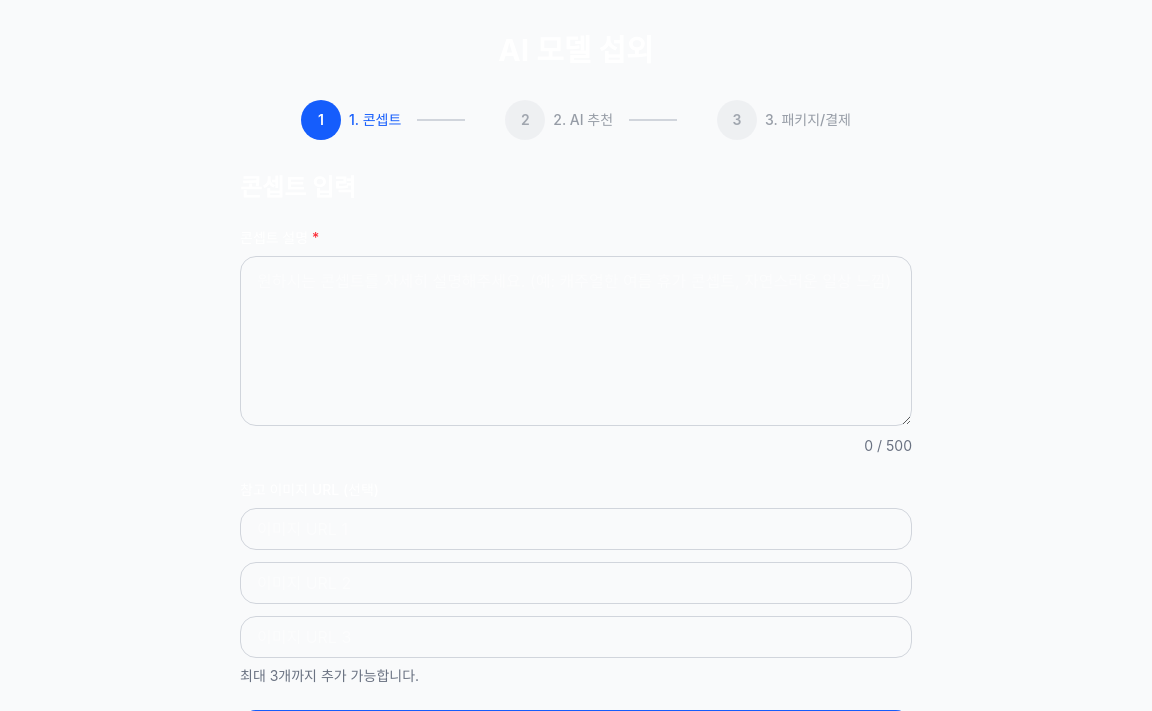
Test: BookingWizard › Test 4: 모델 선택 후 Step 3 이동 › requires model selection before proceeding
Type "캐주얼한 콘셉트" into the text box with placeholder "원하시는 콘셉트를 자세히 설명해주세요. (예: 캐주얼한 여름 휴가 콘셉트, 자연스러운 일상 느낌)" at {"x": 576, "y": 341}, box x1=240 y1=256 x2=912 y2=426
(page scrolled)
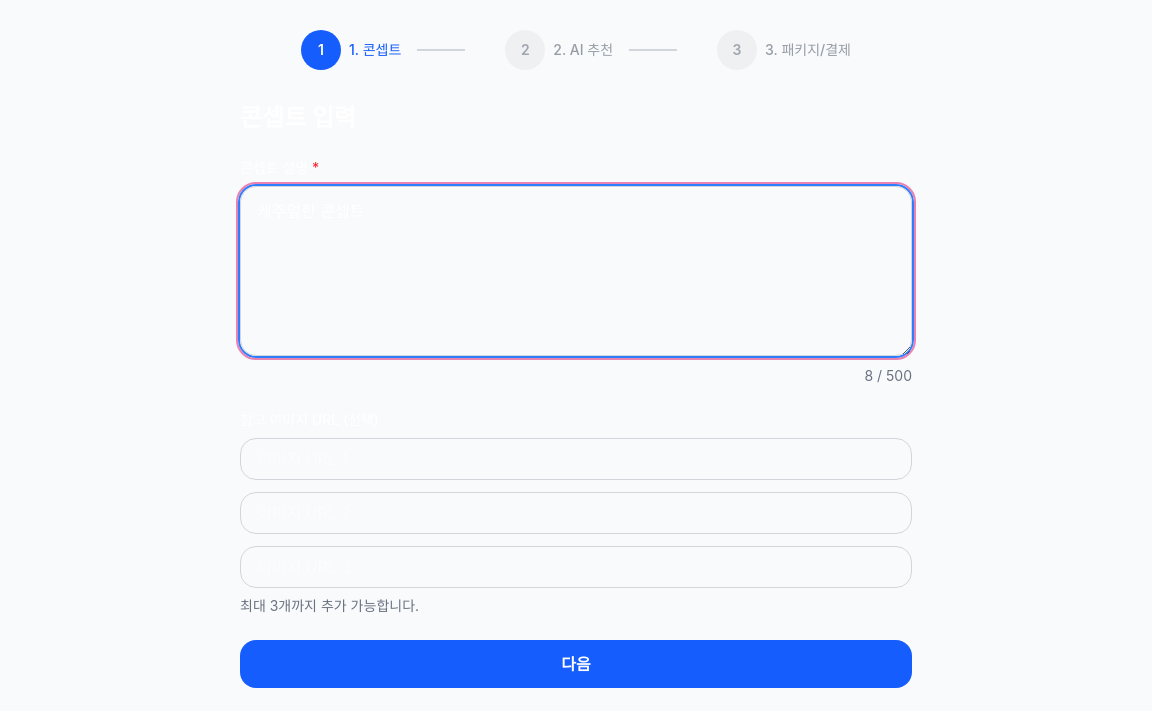
Click the button "다음" at {"x": 576, "y": 664}, box x1=240 y1=640 x2=912 y2=688
(page scrolled)
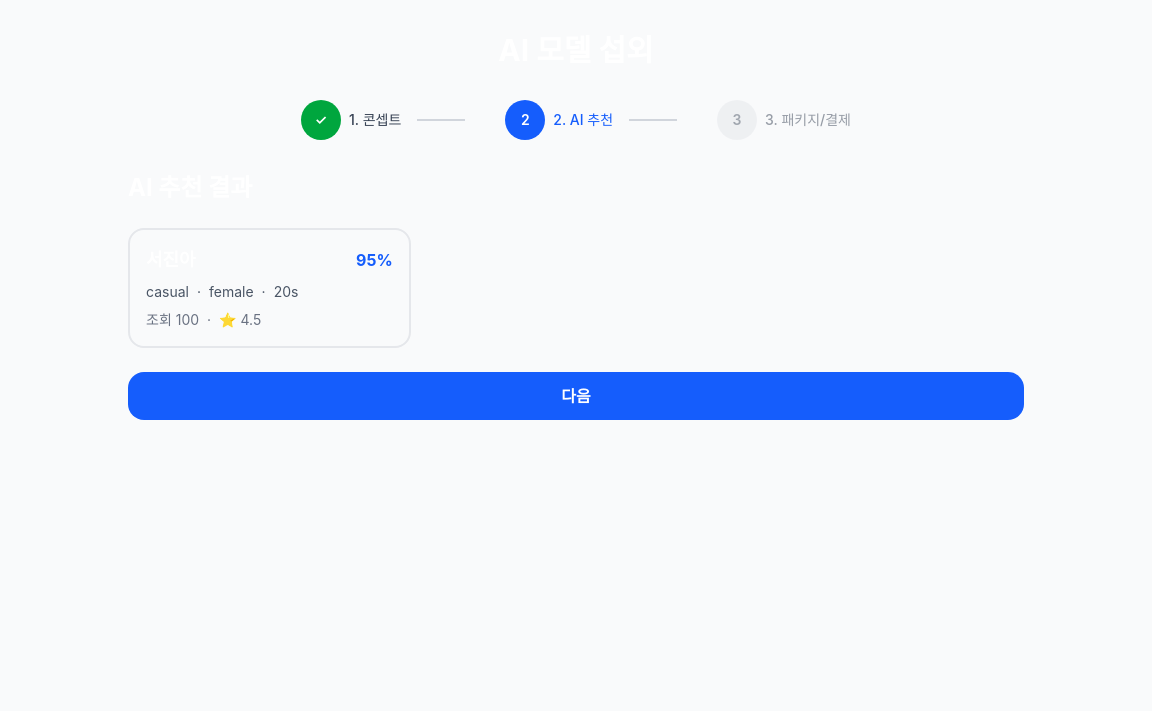
Try to proceed without selection
Click the button "다음" at {"x": 576, "y": 396}, box x1=128 y1=372 x2=1024 y2=420
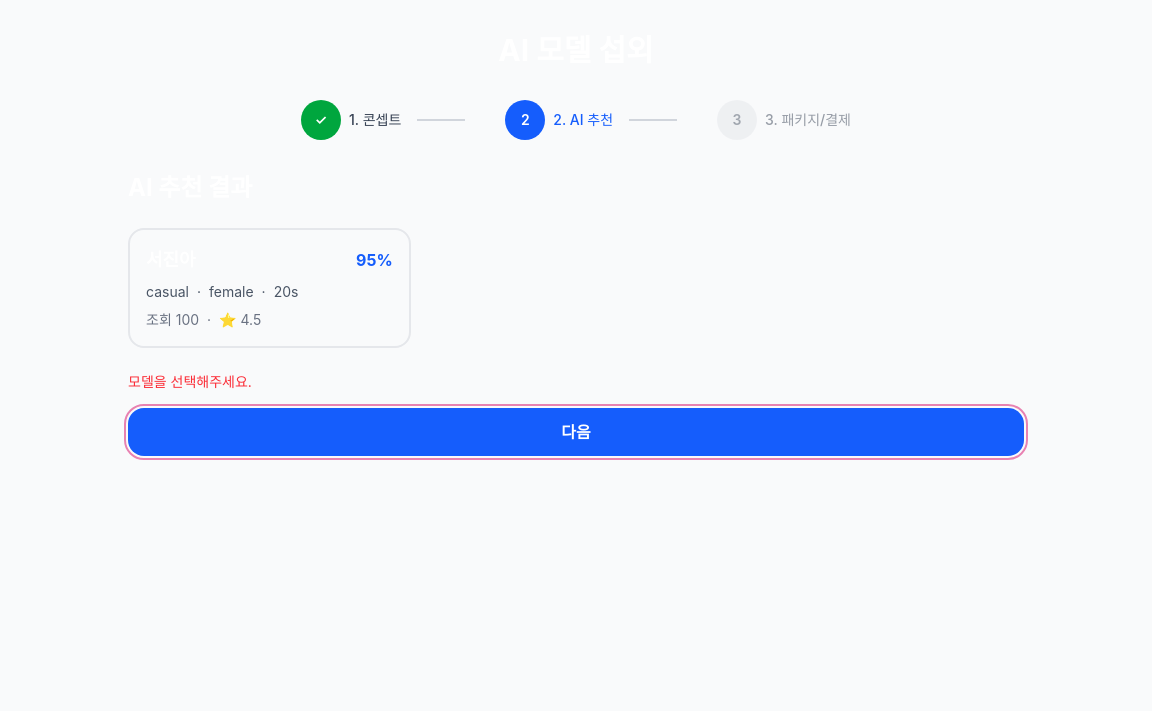
Check: the text "모델을 선택해주세요." is shown, box x1=128 y1=373 x2=252 y2=390
